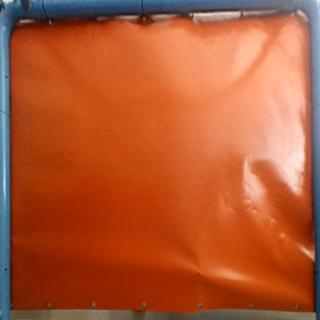Hit-hRxx: (190, 264, 210, 284)
